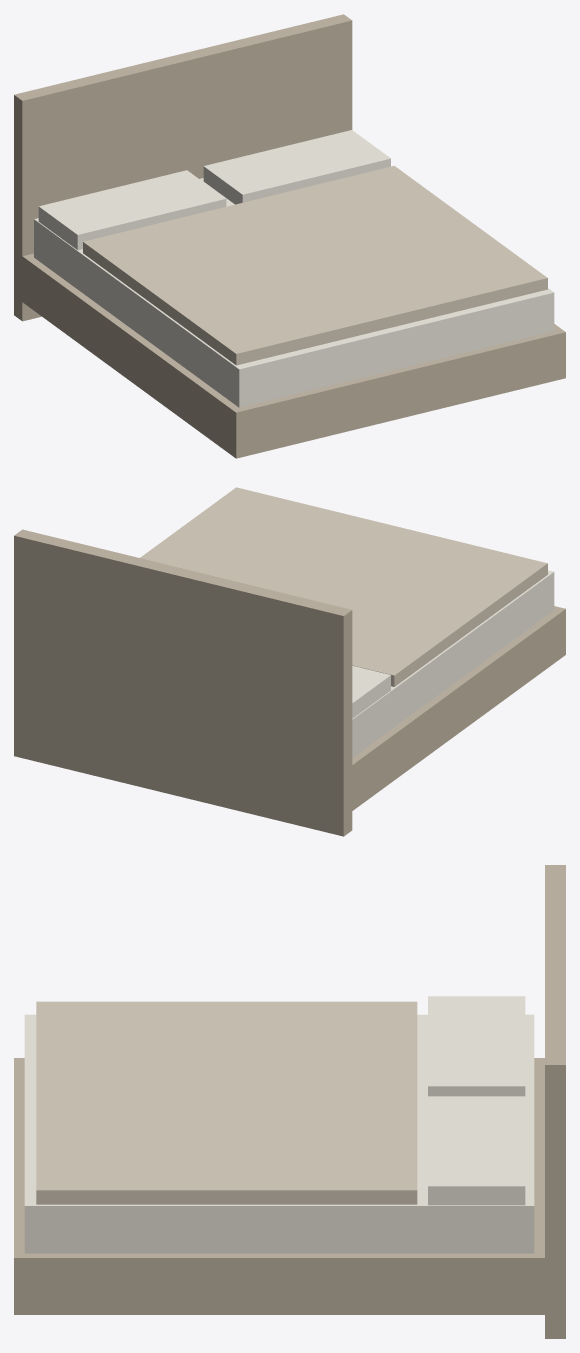
The model's file is BL-LINEN.glb.
3 views of the same model, one above another, from view 1: azimuth 30°, elevation 25°; view 2: azimuth 150°, elevation 25°; view 3: azimuth 270°, elevation 25° (orthographic). The views are drawn at different scales.
Visible parts, largest first — view 1: Duvet, Headboard, Frame, Mattress, Pillow (×2); view 2: Headboard, Duvet, Frame, Mattress, Pillow; view 3: Duvet, Frame, Mattress, Pillow (×2), Headboard.
Part boxes in pixels (bbox=[...]): Duvet: bbox=[83, 165, 547, 365]; Headboard: bbox=[14, 14, 352, 321]; Frame: bbox=[14, 250, 565, 458]; Mattress: bbox=[34, 178, 554, 407]; Pillow (×2): bbox=[38, 130, 390, 250]; Headboard: bbox=[14, 529, 352, 836]; Duvet: bbox=[140, 487, 547, 686]; Frame: bbox=[14, 606, 565, 817]; Mattress: bbox=[352, 570, 554, 757]; Pillow: bbox=[352, 665, 390, 718]; Duvet: bbox=[36, 1001, 417, 1204]; Frame: bbox=[14, 1058, 565, 1314]; Mattress: bbox=[24, 1014, 534, 1253]; Pillow (×2): bbox=[428, 996, 525, 1205]; Headboard: bbox=[545, 865, 565, 1338].
Size of the model in its own units: 1.8 by 1.15 by 2.1.
